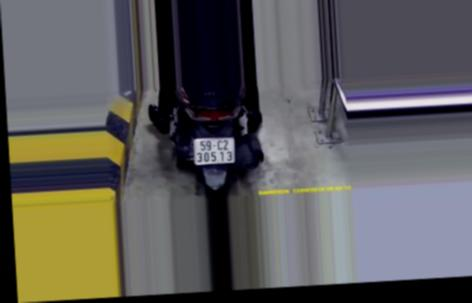License_Plate: (190, 133, 238, 169)
